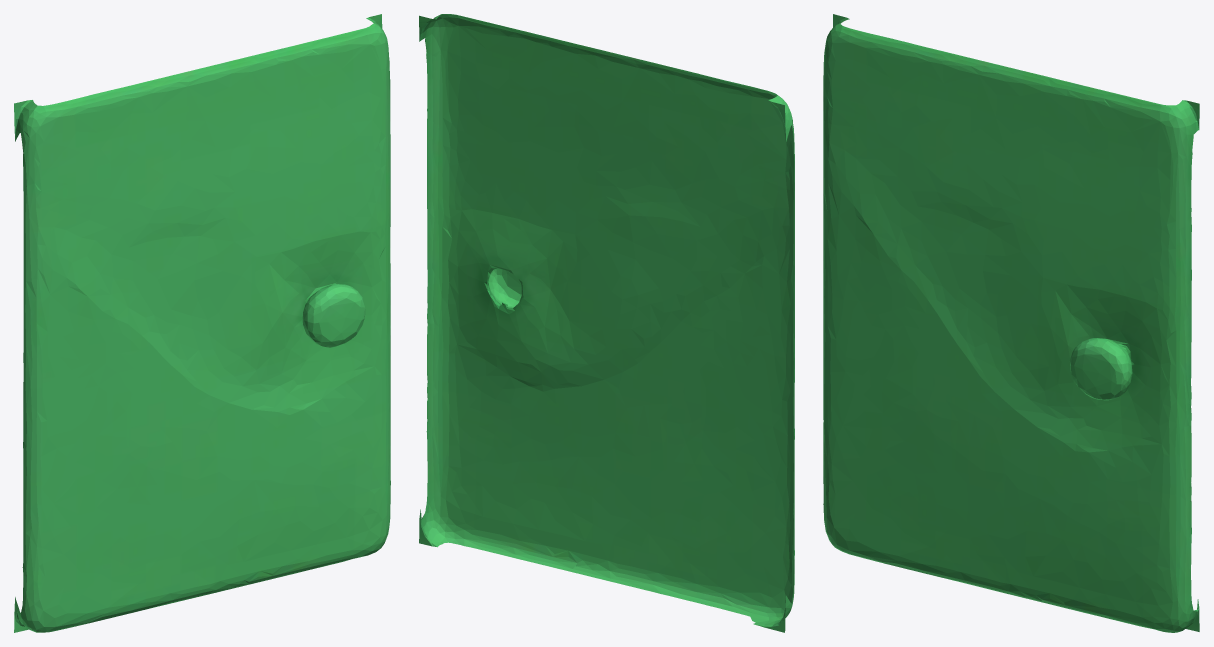
The model's file is door_left.glb.
The picture shows the model from 3 angles, left to right: view 1: azimuth 30°, elevation 25°; view 2: azimuth 150°, elevation 25°; view 3: azimuth 330°, elevation 25°; orthographic projection.
Parts seen in each view (by area): view 1: source_surface_0; view 2: source_surface_0; view 3: source_surface_0.
Part boxes in pixels (<box>): source_surface_0: <box>14,14,390,632</box>; source_surface_0: <box>419,14,794,632</box>; source_surface_0: <box>823,14,1199,632</box>.
Size of the model in its own units: 0.1282 by 0.1764 by 0.0195.
1 material, 1 textured.
